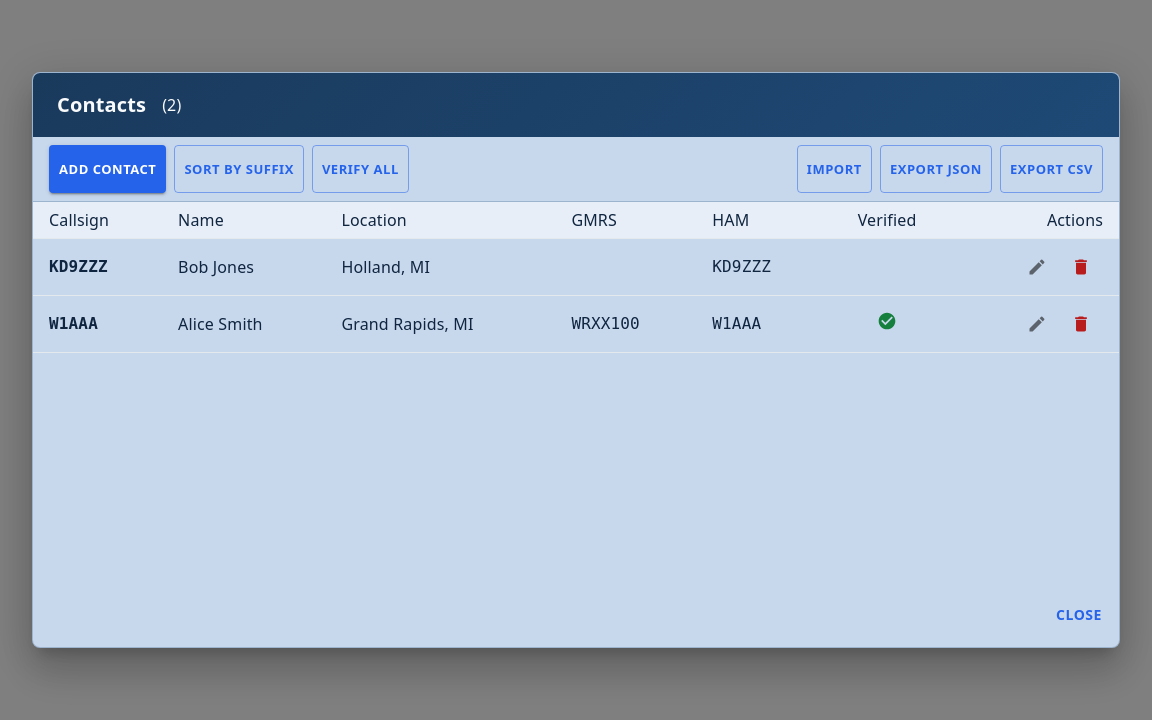
Scenario: ContactsDialog › Add Contact dialog › Save button enabled after callsign entered
Click the button "Add Contact": (108, 169) [49,145,166,193]
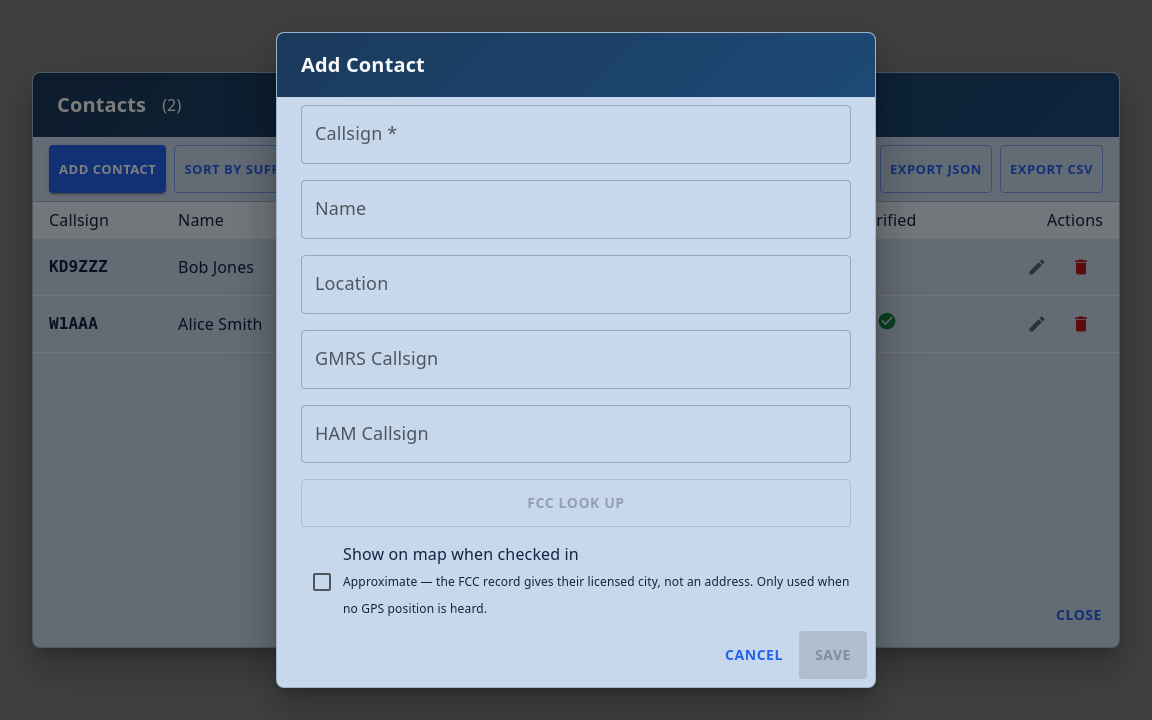
Now the heading "Add Contact" is shown, box [277,33,875,97]
In the field labelled "Callsign *": (576, 134) [301,105,851,164], type "W1NEW"
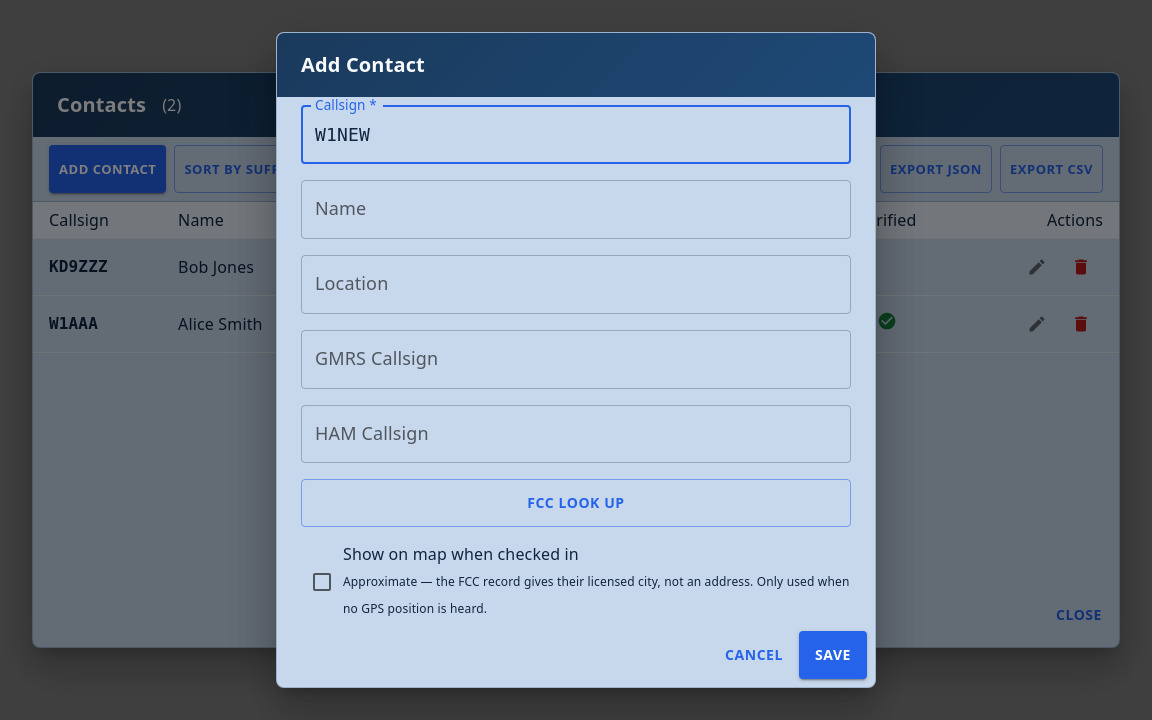
Now the button "Save" is enabled, box [799,631,867,679]
